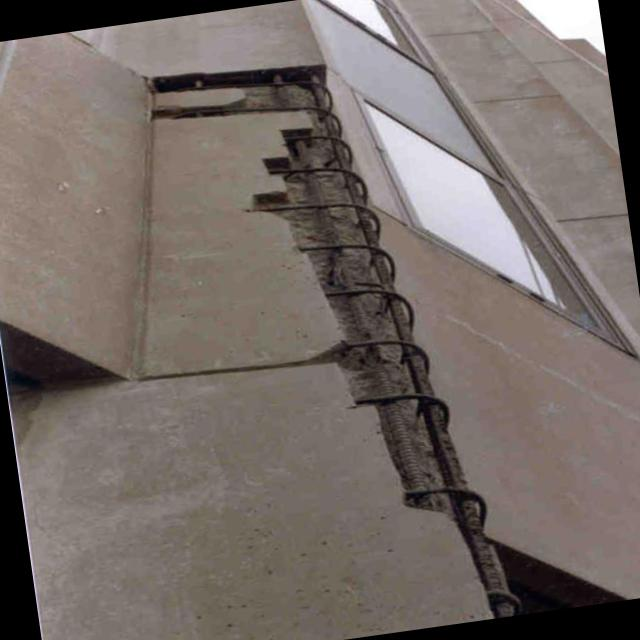spalling: (131, 62, 520, 618)
